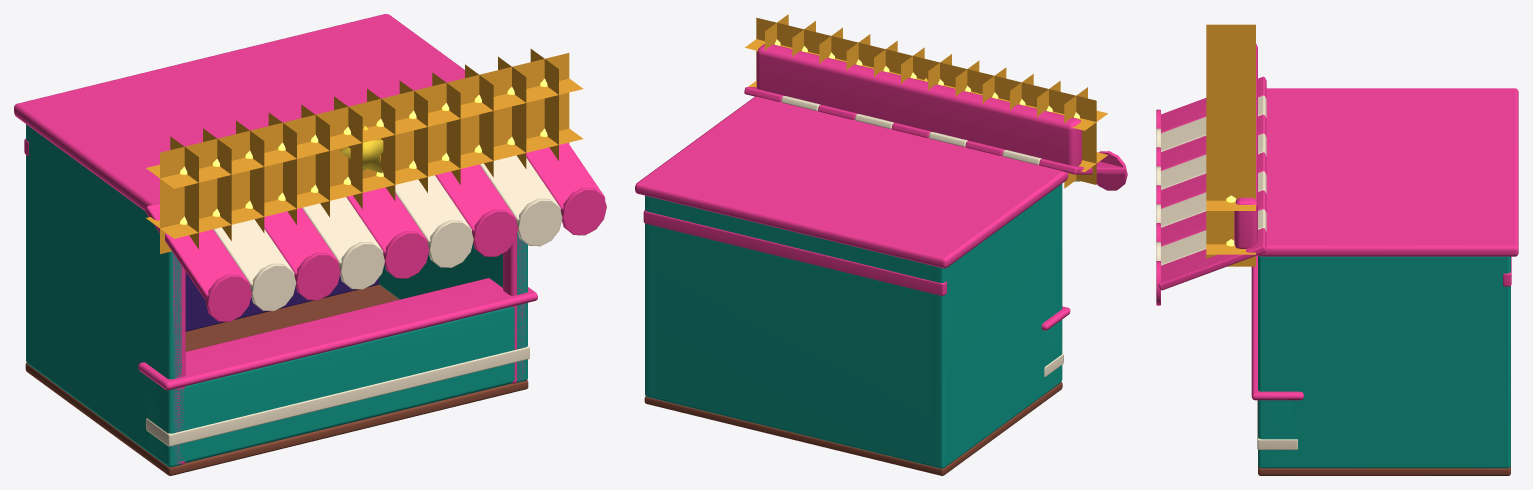
Rendered from booth.glb.
3 renders of one model, left to right at view 1: azimuth 30°, elevation 25°; view 2: azimuth 150°, elevation 25°; view 3: azimuth 270°, elevation 25°, orthographic. The views are drawn at different scales.
Visible parts, largest first — view 1: Booth; view 2: Booth; view 3: Booth.
Boxes of the visible parts, x1,y1,x2,y2 form: Booth: (14, 14, 606, 475); Booth: (635, 14, 1127, 475); Booth: (1156, 24, 1518, 475).
Bounding box in the file's own units: 5.23 × 4.17 × 4.59.
